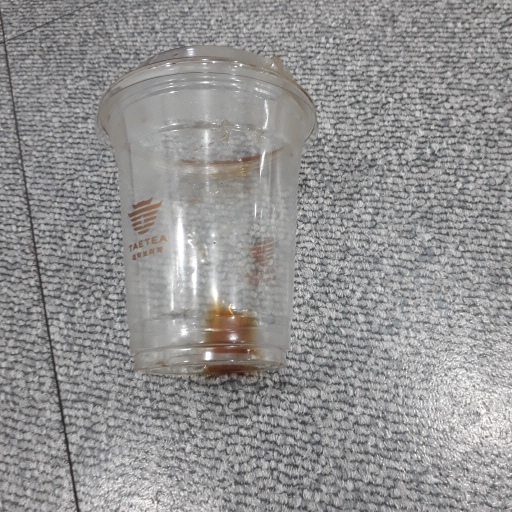Plastic_2: (99, 46, 320, 382)
